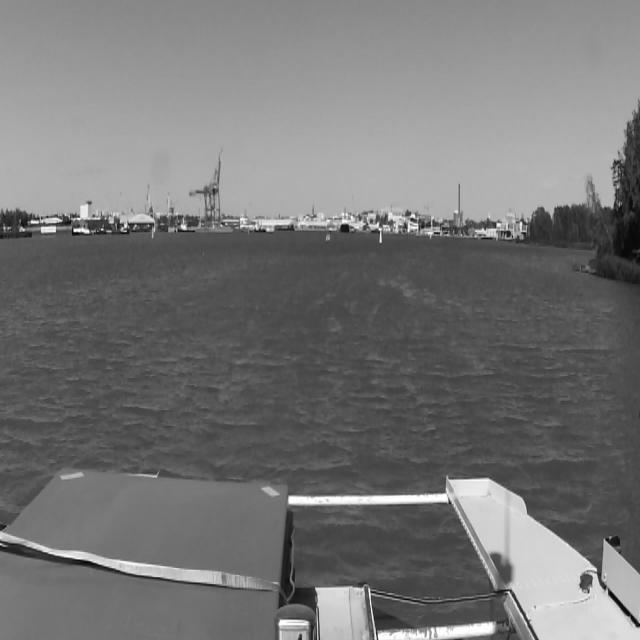buoy: (379, 230, 383, 244), (428, 232, 432, 241), (152, 227, 154, 238)
ship: (326, 214, 366, 236), (339, 205, 348, 233), (326, 234, 330, 242)
